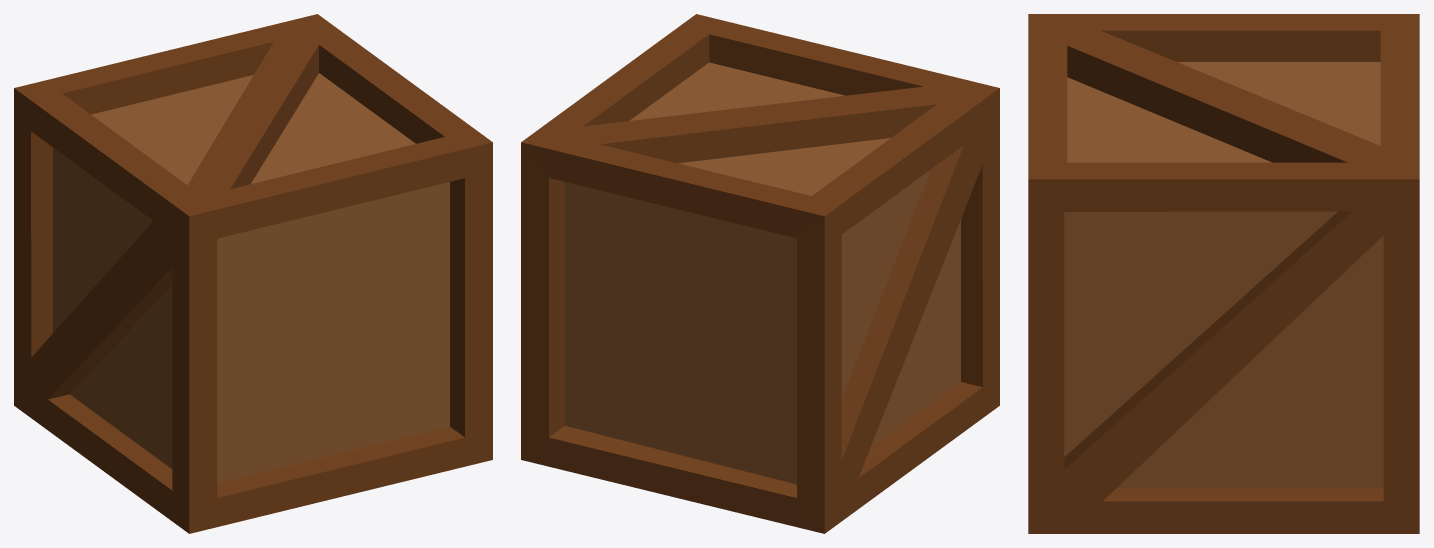
File: BrownSquareBox.fbx
The picture shows the model from 3 angles, left to right: view 1: azimuth 30°, elevation 25°; view 2: azimuth 150°, elevation 25°; view 3: azimuth 270°, elevation 25°; orthographic projection. The views are drawn at different scales.
Visible parts, largest first — view 1: BrownSquareBox; view 2: BrownSquareBox; view 3: BrownSquareBox.
Boxes of the visible parts, bbox=[...] form: BrownSquareBox: bbox=[14, 14, 492, 533]; BrownSquareBox: bbox=[521, 14, 999, 533]; BrownSquareBox: bbox=[1028, 14, 1419, 533].
Bounding box in the file's own units: 2.15 × 2.15 × 2.15.
